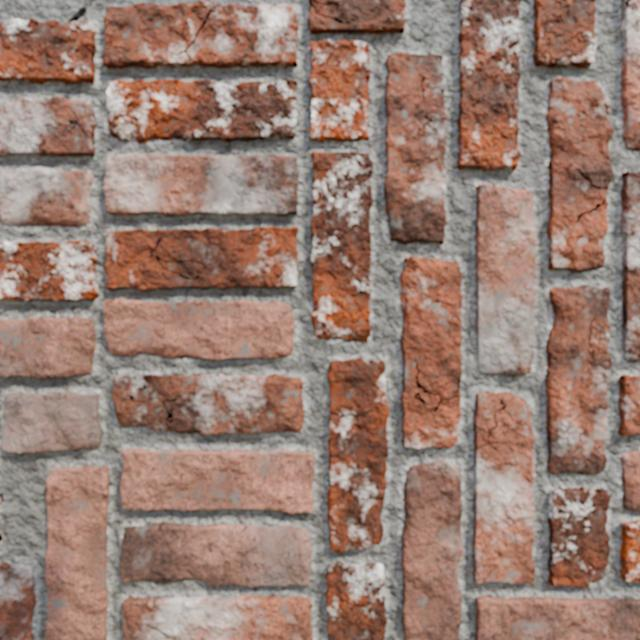crack: (103, 1, 298, 68), (546, 78, 613, 271), (120, 448, 314, 513), (120, 521, 311, 587), (103, 153, 299, 216), (384, 52, 448, 244), (546, 285, 611, 474), (106, 79, 297, 143), (105, 227, 298, 290), (472, 392, 535, 584), (327, 358, 389, 552), (310, 152, 373, 342), (401, 256, 462, 449), (476, 183, 537, 375), (112, 373, 304, 434), (103, 299, 294, 359), (401, 460, 463, 639), (45, 466, 109, 639), (457, 0, 521, 170), (122, 595, 312, 639), (0, 0, 96, 84), (475, 596, 639, 639), (546, 486, 610, 587), (308, 40, 370, 142), (2, 391, 102, 453), (0, 240, 98, 301), (0, 317, 95, 378), (0, 96, 96, 156), (0, 167, 92, 226), (325, 561, 387, 639), (533, 0, 596, 68), (620, 171, 639, 361), (308, 0, 405, 34), (620, 0, 639, 150), (0, 561, 36, 639), (618, 374, 639, 435), (620, 519, 639, 581), (621, 451, 639, 511), (0, 493, 3, 504)
